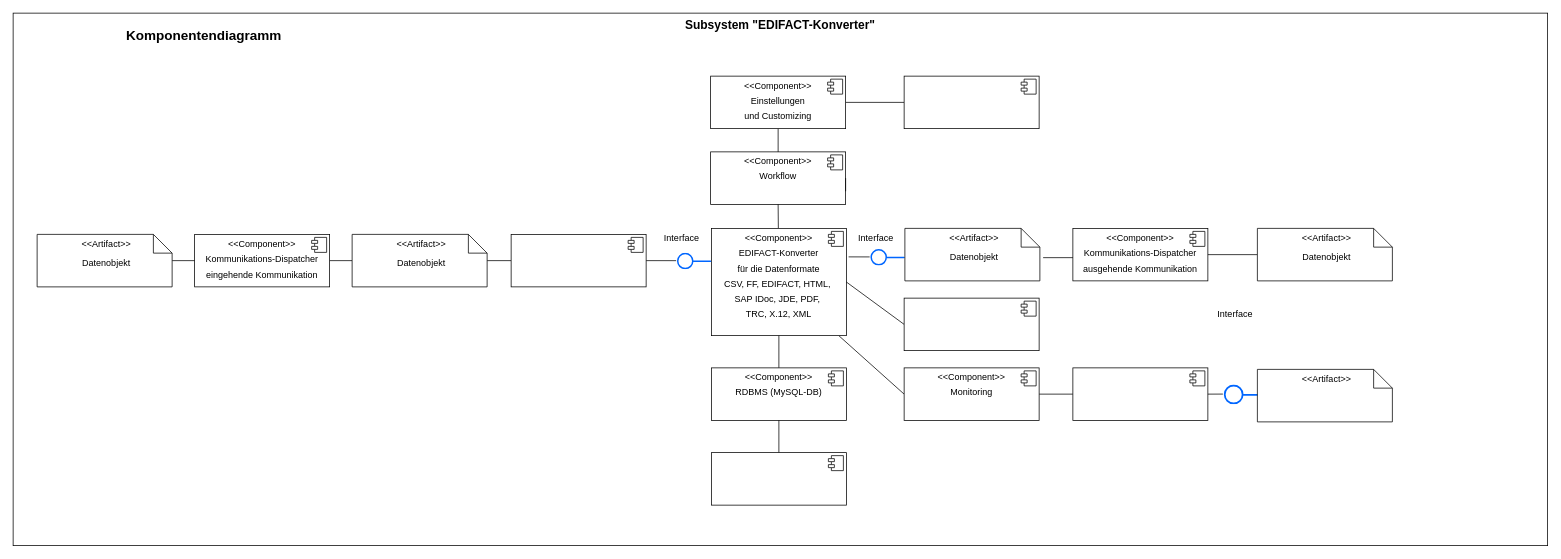
The diagram is 1561 pixels wide and 559 high, and some of its shapes have lost their labels. The centre of each missing label's shape, as x and y in pixels:
<<Component>> backup: the point at 778,478
<<Component>> Benutzerkonto: the point at 971,102
<<Component>> Dispatcher Workflow-Erkennung: the point at 578,260
<<Component>> Reporting: the point at 1140,393
<<Component>> Scheduler: the point at 971,324
E-Mail: the point at 1324,395
